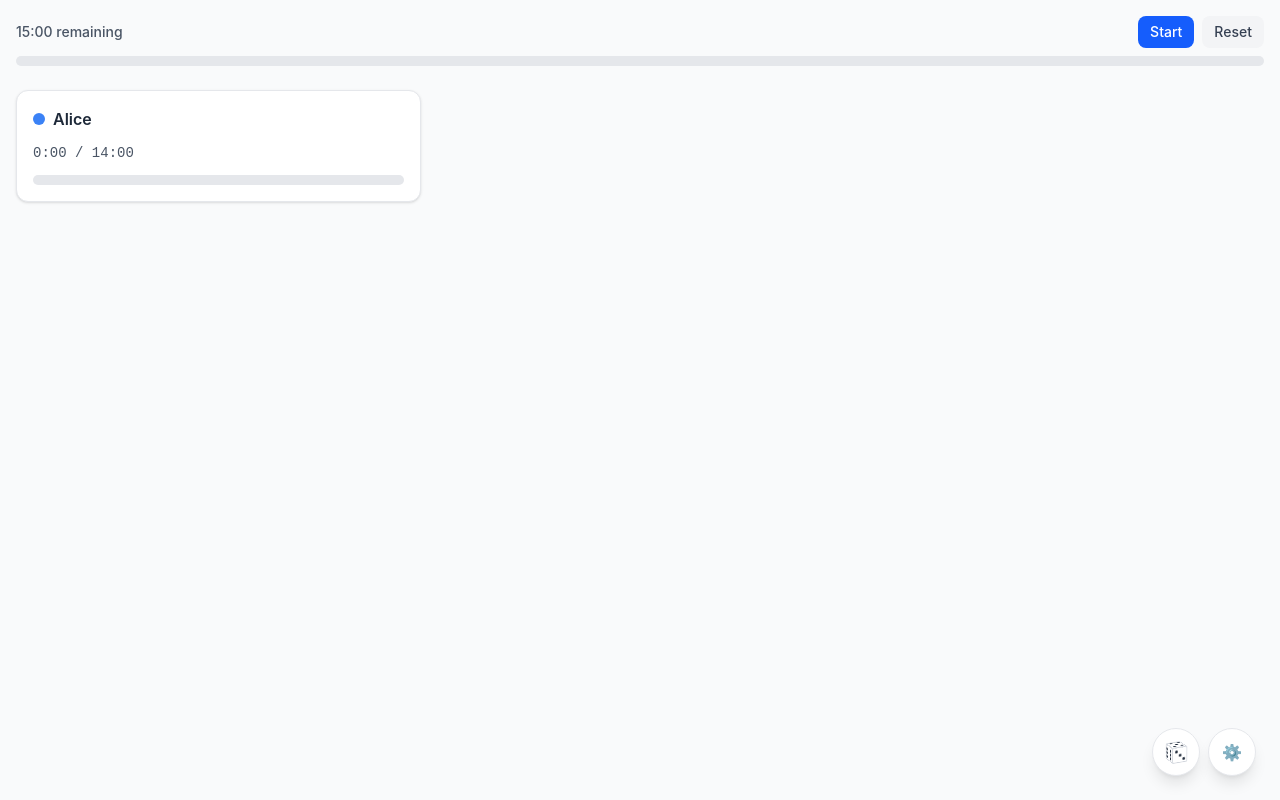
Test: hides the floating shuffle button while settings is open
Step 1. Click the button named "open settings" → (1232, 752), box 1208,728 -> 1256,776
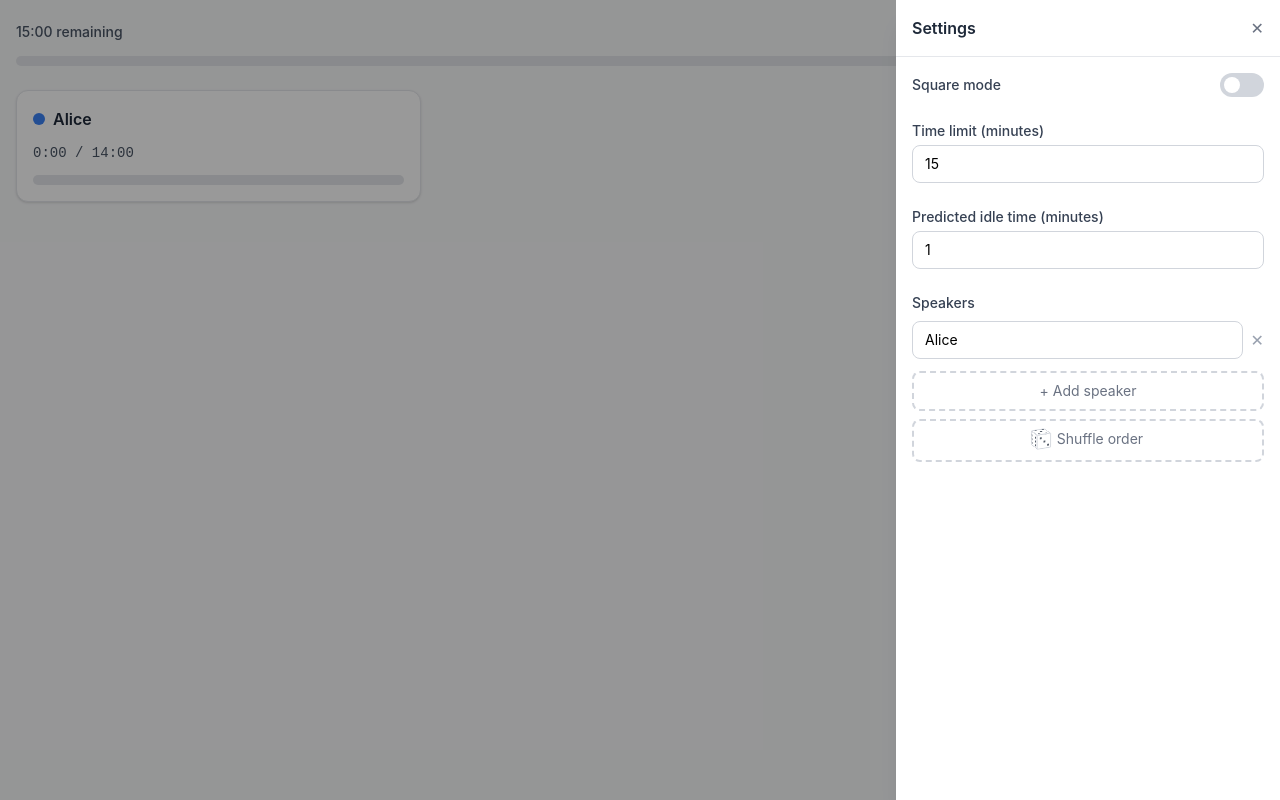
Result: the number of buttons "Shuffle order" is 1 at 912,419 -> 1264,462
